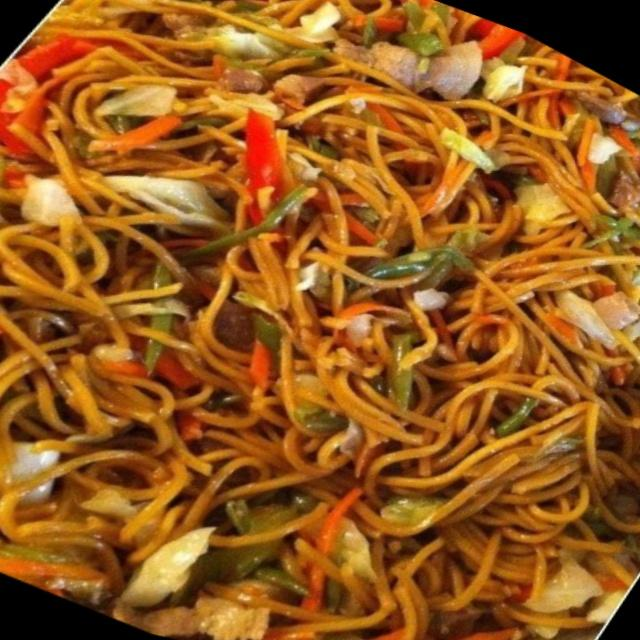pancit bihon: (0, 0, 639, 639)
